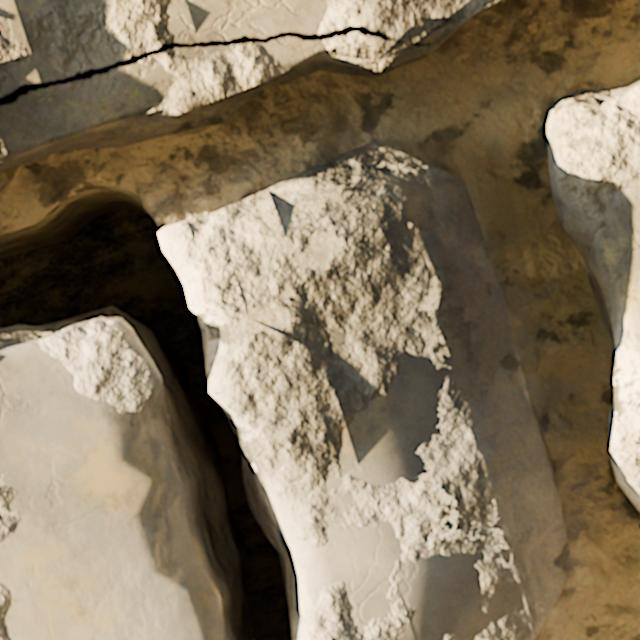broken_brick: (158, 141, 569, 639), (0, 317, 218, 639), (181, 504, 185, 517)
crack: (0, 182, 302, 639), (0, 0, 508, 171), (545, 79, 639, 511), (523, 630, 531, 639)
